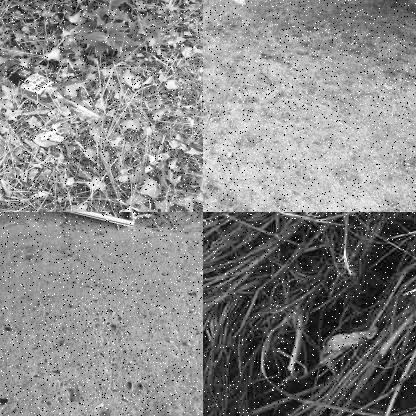glass: (0, 60, 112, 130)
plastic: (0, 212, 136, 234), (231, 0, 247, 8)
